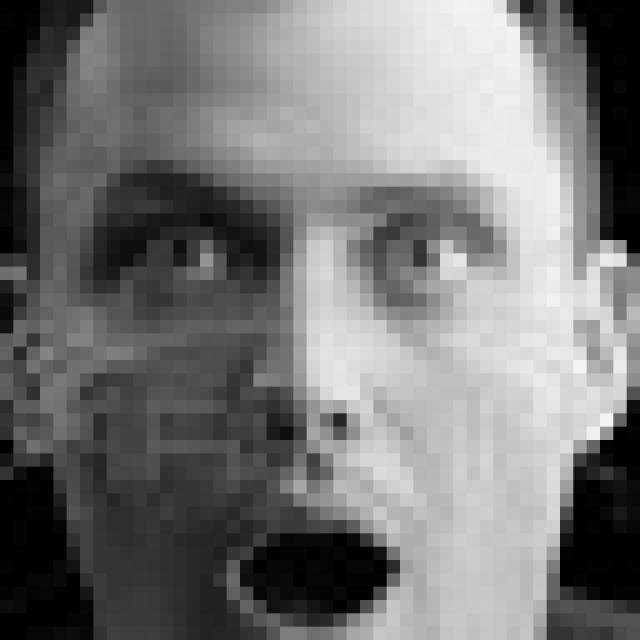surprise: (83, 161, 515, 640)
